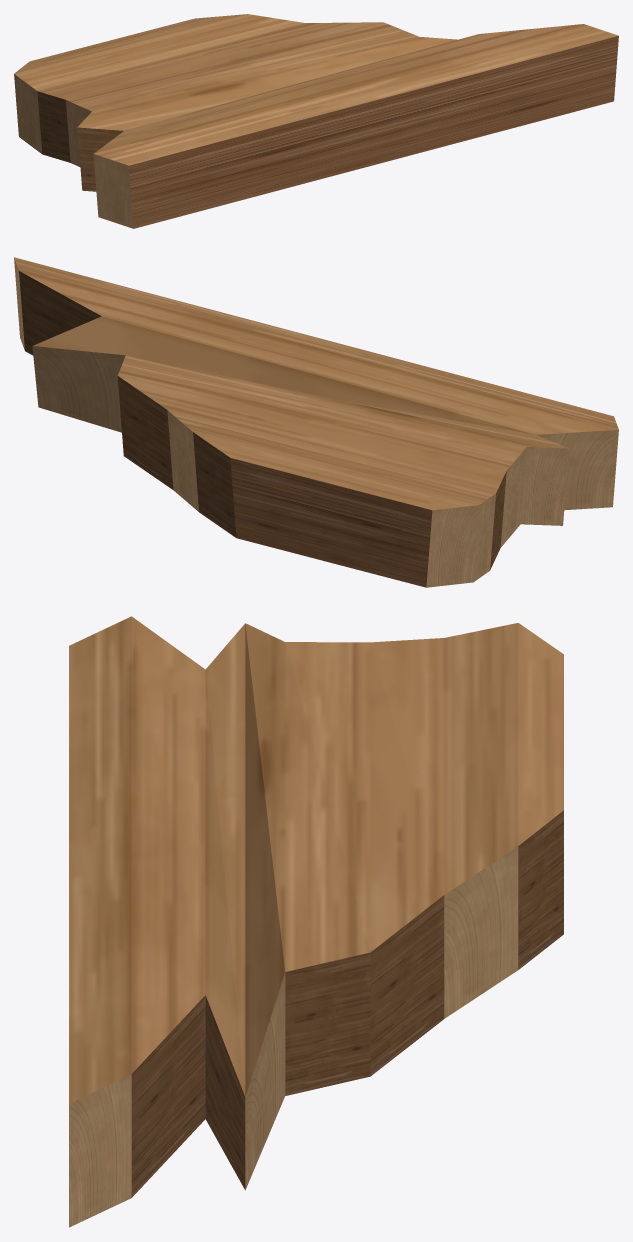
Rendered from debris_plank_diagonal.glb.
3 renders of one model, top to bottom at view 1: azimuth 30°, elevation 25°; view 2: azimuth 150°, elevation 25°; view 3: azimuth 270°, elevation 25°, orthographic. The views are drawn at different scales.
Parts seen in each view (by area): view 1: Diagonal Plank Break; view 2: Diagonal Plank Break; view 3: Diagonal Plank Break.
Part boxes in pixels (<box>): Diagonal Plank Break: <box>14,14,618,228</box>; Diagonal Plank Break: <box>14,257,618,587</box>; Diagonal Plank Break: <box>69,616,563,1227</box>.
Bounding box in the file's own units: 0.207 × 0.031 × 0.087.
1 material, 1 textured.
